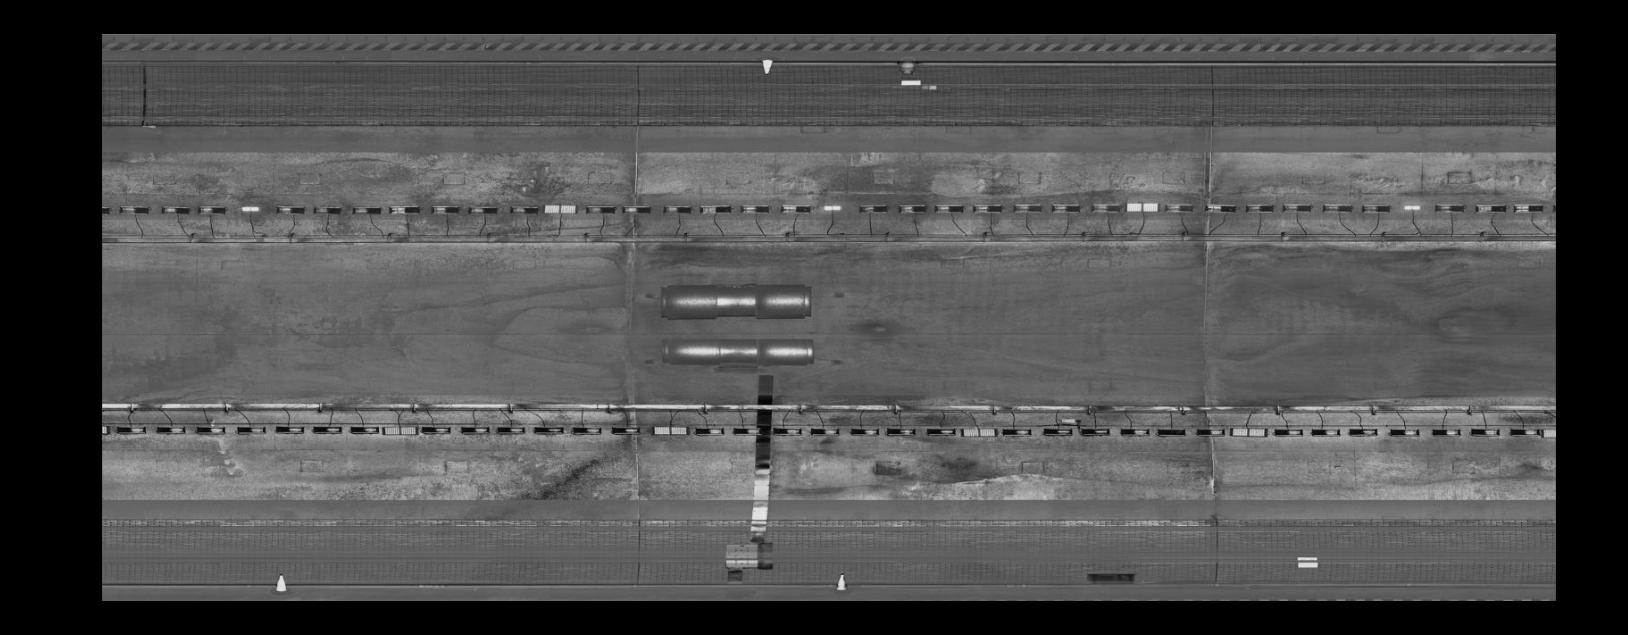light: (1228, 425, 1270, 439), (542, 202, 579, 217), (958, 425, 998, 439), (1087, 200, 1123, 215), (380, 424, 420, 437), (649, 424, 689, 437), (582, 202, 617, 217), (1320, 200, 1354, 215), (385, 203, 422, 217), (969, 201, 1005, 215), (1124, 200, 1161, 214), (428, 202, 461, 217), (696, 203, 734, 216), (1471, 202, 1510, 215), (1047, 201, 1082, 215), (466, 203, 500, 217), (1203, 201, 1238, 215), (1280, 201, 1314, 215), (117, 202, 151, 216), (195, 203, 228, 217), (620, 202, 653, 216), (660, 202, 694, 216), (1011, 201, 1044, 215), (1511, 202, 1546, 215), (350, 204, 384, 217), (507, 204, 541, 217), (737, 202, 771, 215), (895, 203, 929, 216), (931, 202, 966, 215), (1162, 201, 1196, 214), (1431, 202, 1468, 214), (883, 425, 917, 438), (922, 424, 956, 437), (1078, 425, 1112, 438), (1154, 425, 1188, 438), (1467, 425, 1504, 437), (272, 204, 308, 216), (112, 423, 148, 435), (1307, 426, 1344, 438), (1344, 425, 1380, 437), (1386, 426, 1422, 438), (1429, 426, 1465, 438), (1242, 201, 1275, 214), (1359, 202, 1392, 215), (1193, 425, 1228, 437), (310, 204, 343, 217), (770, 425, 803, 438), (158, 204, 192, 216), (778, 202, 812, 214), (347, 423, 381, 435), (729, 425, 763, 437), (999, 426, 1033, 438), (808, 425, 841, 437), (847, 425, 880, 437), (1039, 426, 1073, 438), (1271, 427, 1304, 439), (693, 425, 725, 437), (856, 203, 891, 214), (233, 424, 268, 435), (273, 424, 308, 435), (1117, 426, 1152, 437), (1505, 426, 1541, 437), (310, 424, 345, 435), (459, 424, 492, 435), (610, 425, 644, 436), (530, 425, 566, 435), (152, 425, 187, 435), (193, 425, 228, 435), (568, 425, 603, 435), (418, 425, 452, 435), (236, 203, 262, 214), (495, 425, 526, 434), (1399, 203, 1424, 212), (821, 203, 844, 213), (1541, 427, 1555, 438), (103, 202, 112, 217), (103, 421, 111, 437)
